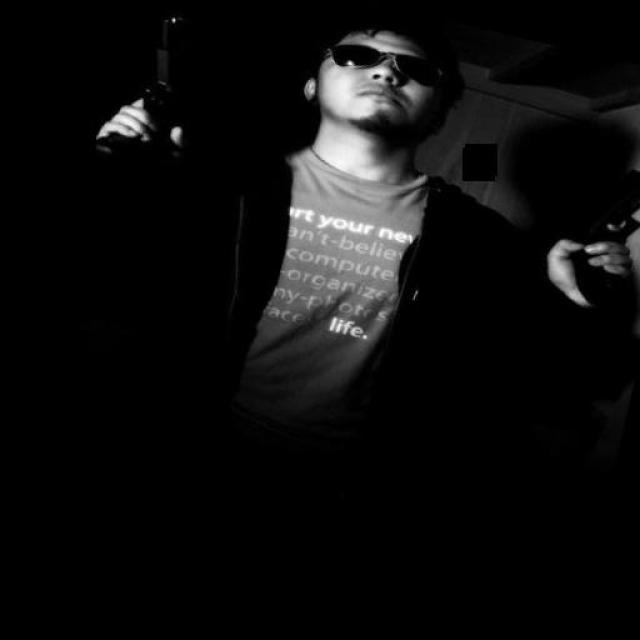gun: (115, 1, 226, 151), (544, 150, 640, 309)
